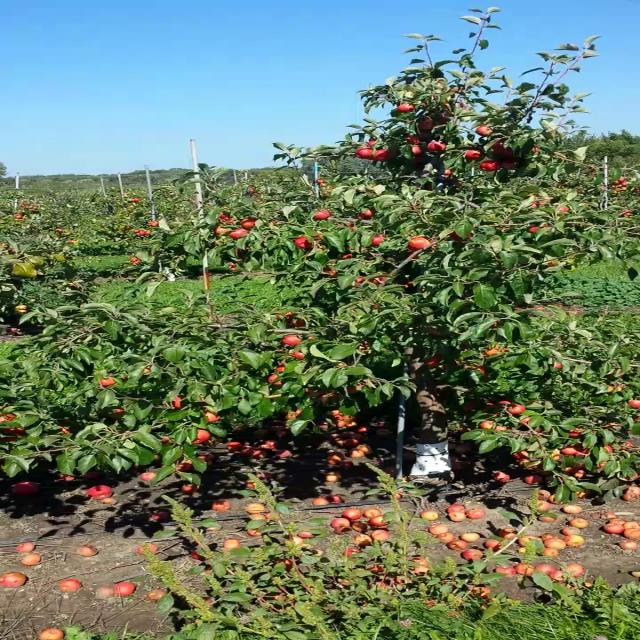apple: (490, 138, 516, 162), (277, 311, 306, 328), (2, 428, 25, 442), (482, 345, 508, 357), (316, 393, 338, 405), (203, 410, 221, 424), (409, 238, 428, 250), (425, 353, 441, 367), (452, 232, 474, 242), (303, 387, 324, 397), (482, 160, 499, 172), (294, 238, 314, 248), (520, 459, 540, 469), (194, 430, 210, 442), (616, 474, 639, 482), (358, 340, 371, 354), (466, 150, 484, 160), (476, 126, 494, 136), (0, 413, 18, 423), (530, 200, 549, 209), (220, 213, 237, 223), (419, 117, 433, 129), (270, 374, 284, 386), (284, 335, 302, 344), (356, 148, 372, 158), (322, 267, 338, 277), (55, 423, 71, 433), (348, 383, 362, 394), (313, 211, 329, 220), (230, 230, 248, 238), (513, 451, 531, 459), (242, 218, 256, 228), (374, 150, 388, 160), (470, 366, 486, 374), (508, 405, 524, 413), (428, 143, 444, 151), (411, 156, 423, 166), (100, 378, 114, 386), (372, 237, 386, 245), (110, 407, 126, 414), (552, 448, 561, 460), (576, 448, 589, 456), (406, 137, 418, 145), (398, 104, 414, 110), (570, 430, 582, 438), (291, 353, 305, 359), (372, 277, 386, 283), (360, 210, 372, 217), (481, 422, 495, 428), (500, 162, 514, 168), (174, 398, 182, 408), (629, 400, 639, 408), (412, 146, 422, 154), (440, 114, 450, 122), (529, 227, 541, 233), (144, 367, 152, 376), (159, 437, 173, 442), (563, 448, 576, 453), (356, 278, 364, 286), (546, 260, 554, 268), (276, 366, 286, 372), (522, 418, 530, 424), (604, 446, 612, 452), (626, 441, 634, 447), (367, 141, 375, 147), (532, 145, 538, 153), (216, 228, 227, 232), (599, 462, 606, 468), (561, 206, 569, 211), (343, 254, 352, 258), (553, 364, 562, 368), (444, 170, 450, 176), (500, 401, 511, 404), (497, 426, 507, 429)
